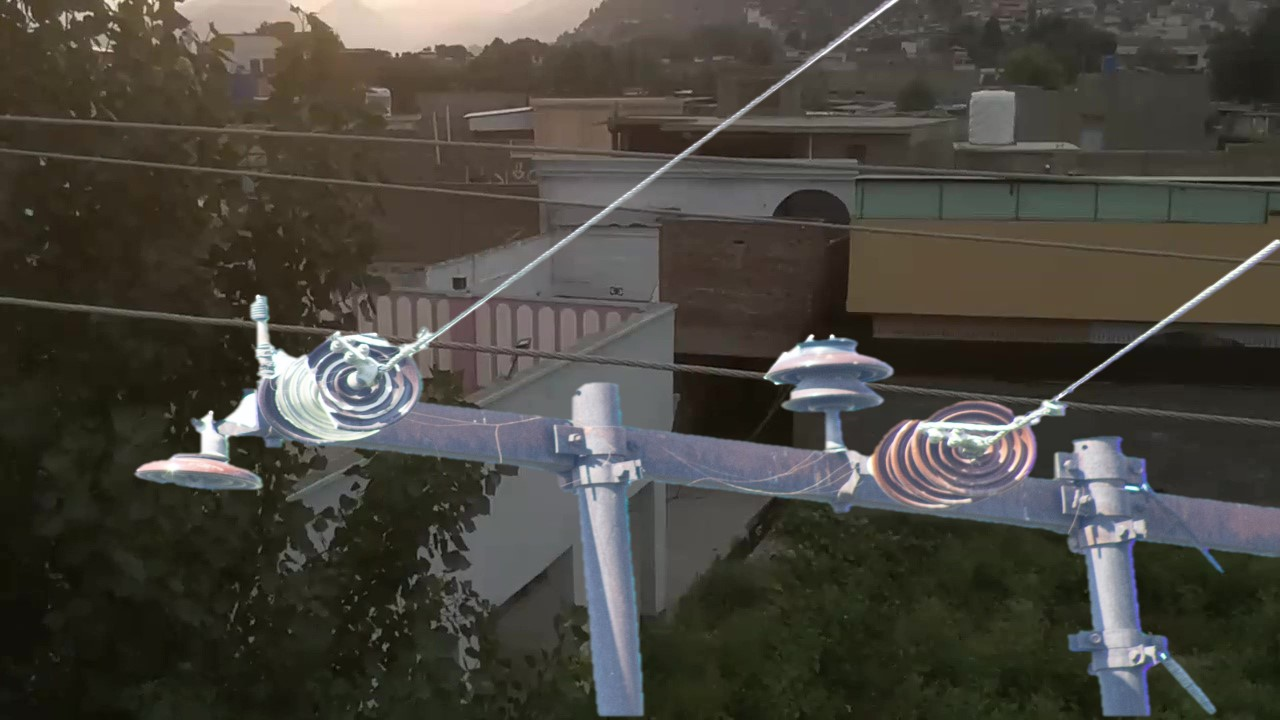defect_disc: (306, 328, 431, 441)
insulator_disc: (911, 398, 1041, 501), (136, 433, 265, 504)
